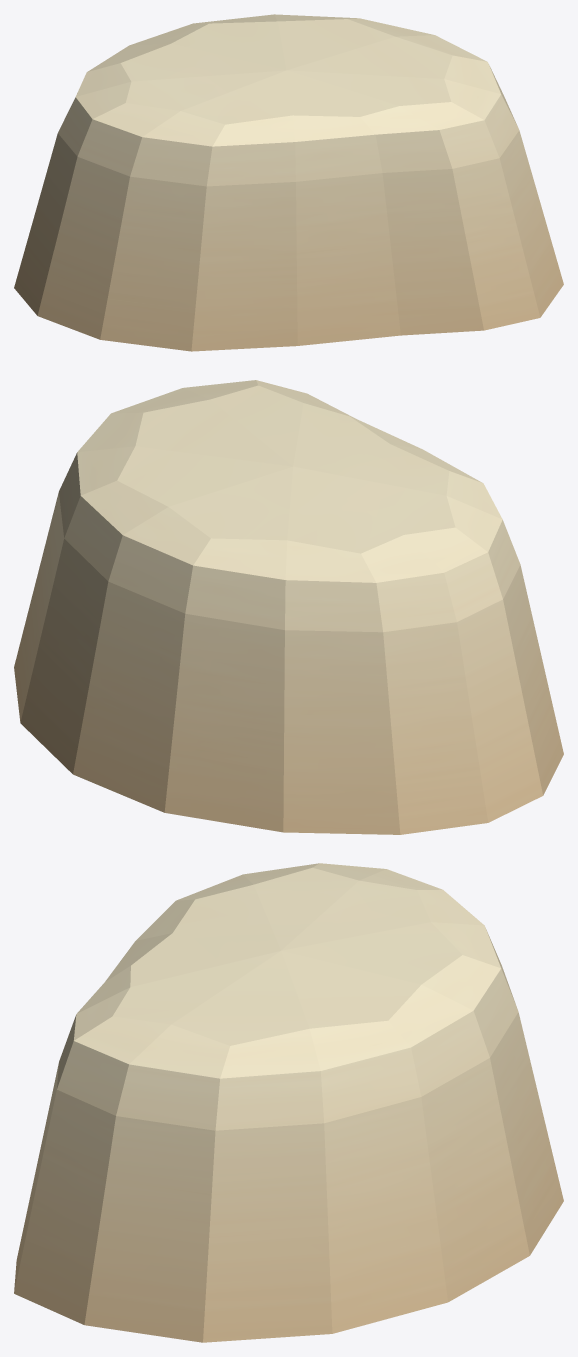
The model's file is Island_01.fbx.
3 views of the same model, one above another, from view 1: azimuth 30°, elevation 25°; view 2: azimuth 150°, elevation 25°; view 3: azimuth 270°, elevation 25° (orthographic). The views are drawn at different scales.
Visible parts, largest first — view 1: Island_01; view 2: Island_01; view 3: Island_01.
Part boxes in pixels (left/top/right/bottom): Island_01: left=14, top=14, right=563, bottom=351; Island_01: left=14, top=380, right=563, bottom=834; Island_01: left=14, top=863, right=563, bottom=1342.
Bounding box in the file's own units: 1039 × 445 × 873.
